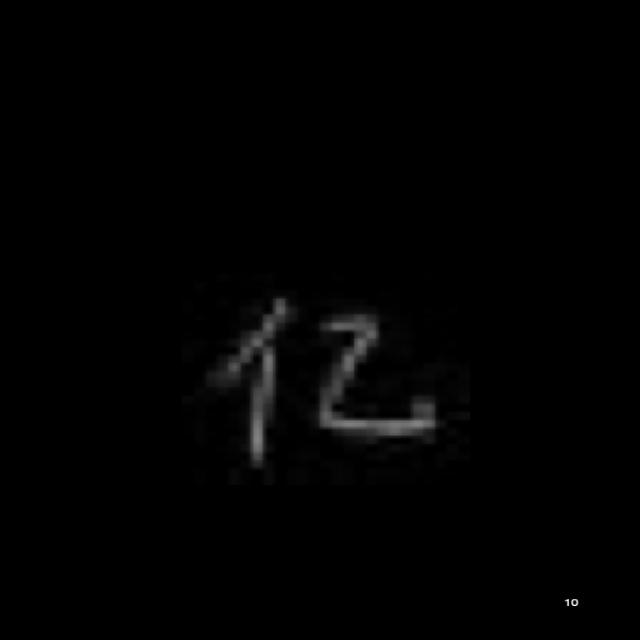100000 -a hundred thousand-: (204, 287, 451, 475)
